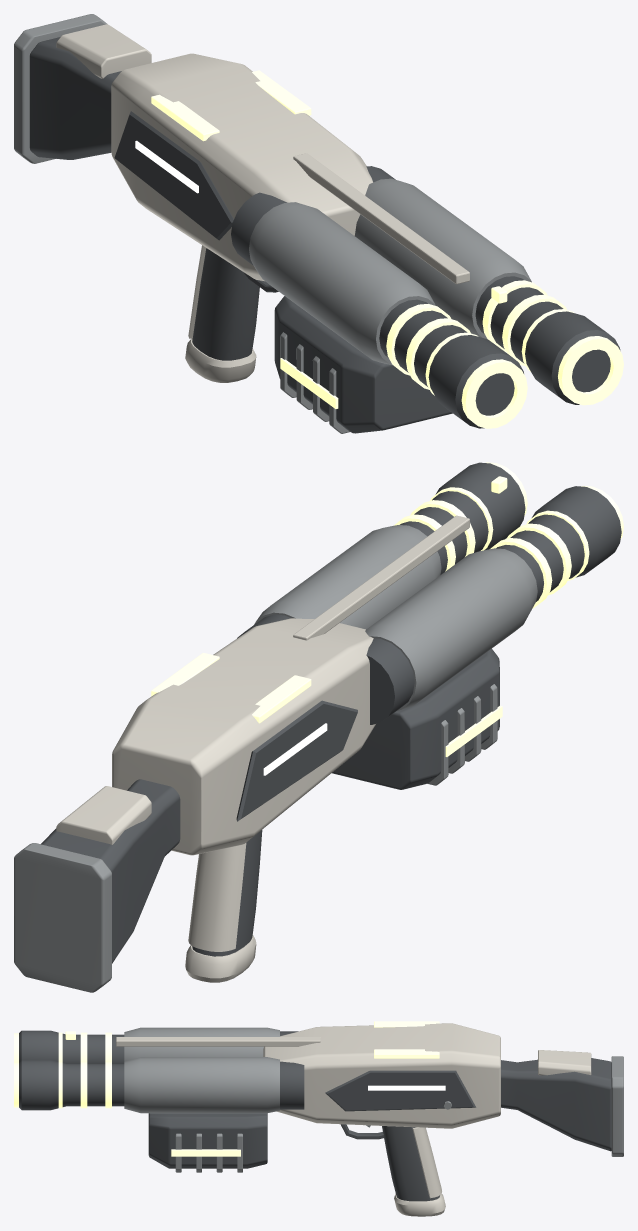
Rendered from LaserShotgun.fbx.
3 views of the same model, one above another, from view 1: azimuth 30°, elevation 25°; view 2: azimuth 150°, elevation 25°; view 3: azimuth 270°, elevation 25° (orthographic). The views are drawn at different scales.
Parts seen in each view (by area): view 1: ShotgunReceiver, BarrelSleeve, PumpForeend, BarrelSleeve.001, ShotgunBarrel, ShoulderStock, ShotgunBarrel.001, ReceiverPanel, PalmGrip, RibSight, StockPad, CheekRest (+10 smaller); view 2: ShotgunReceiver, BarrelSleeve, StockPad, PumpForeend, ShotgunBarrel, BarrelSleeve.001, ShoulderStock, ReceiverPanel, ShotgunBarrel.001, GripPanel, RibSight, CheekRest (+6 smaller); view 3: ShotgunReceiver, BarrelSleeve.001, ShoulderStock, PumpForeend, ShotgunBarrel.001, ReceiverPanel.001, BarrelSleeve, ShotgunBarrel, PalmGrip, RibSight, StockPad, CheekRest (+8 smaller).
Part boxes in pixels (x1,y1,x2,y2): ShotgunReceiver: (111,53,372,281); BarrelSleeve: (249,202,435,365); PumpForeend: (274,296,452,433); BarrelSleeve.001: (354,178,531,339); ShotgunBarrel: (231,192,523,428); ShoulderStock: (29,37,121,159); ShotgunBarrel.001: (366,166,620,404); ReceiverPanel: (114,111,233,240); PalmGrip: (192,248,259,360); RibSight: (293,153,469,284); StockPad: (14,14,107,163); CheekRest: (56,24,151,78); ShotgunReceiver: (112,618,375,855); BarrelSleeve: (365,548,537,710); StockPad: (14,843,111,992); PumpForeend: (332,648,502,789); ShotgunBarrel: (366,486,621,724); BarrelSleeve.001: (254,525,441,629); ShoulderStock: (41,779,180,963); ReceiverPanel: (236,700,357,821); ShotgunBarrel.001: (237,462,525,638); GripPanel: (188,843,246,951); RibSight: (293,515,469,640); CheekRest: (56,786,151,844); ShotgunReceiver: (263,1023,500,1128); BarrelSleeve.001: (124,1057,279,1113); ShoulderStock: (501,1058,611,1151); PumpForeend: (148,1113,267,1172); ShotgunBarrel.001: (19,1060,304,1110); ReceiverPanel.001: (325,1070,476,1111); BarrelSleeve: (124,1027,279,1061); ShotgunBarrel: (19,1030,298,1063); PalmGrip: (382,1126,439,1201); RibSight: (116,1037,320,1046); StockPad: (611,1056,623,1156); CheekRest: (538,1050,591,1075).
Size of the model in its own units: 0.308 by 0.478 by 1.49.
